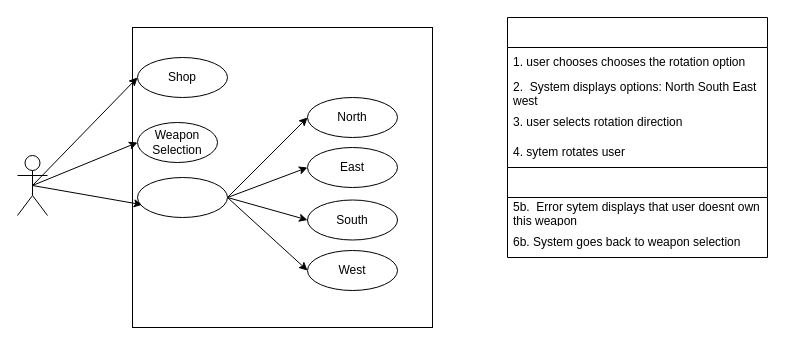
Some shapes in this 785 by 345 pixel diagram are drawn without their labels. Here are the shapes that lost their labels. From the top down, the box of each, then its label:
(506, 16, 768, 168): Basic Flow
(16, 154, 48, 216): Actor
(136, 176, 228, 218): rotation
(506, 166, 768, 258): Alternative flow
